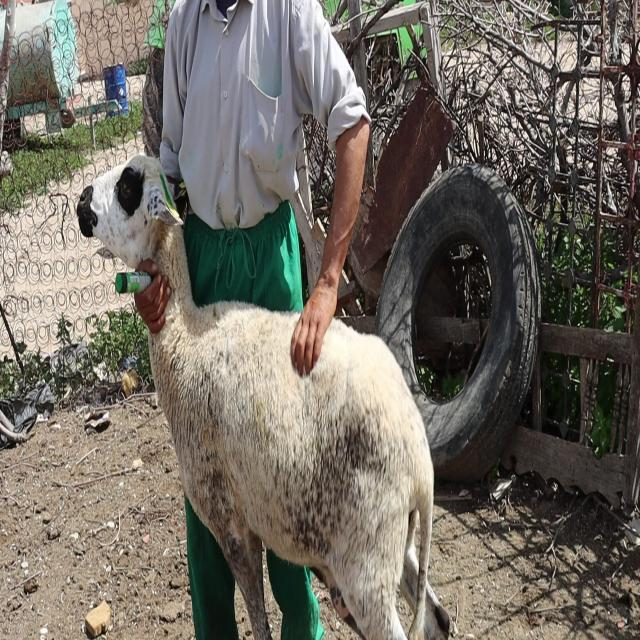Score_3: (78, 155, 448, 639)
